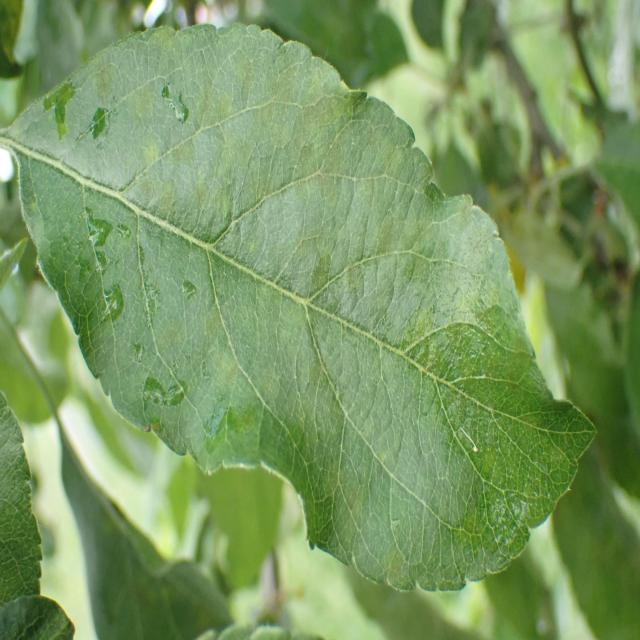scab: (58, 44, 540, 570)
